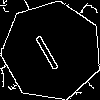I: (27, 25, 62, 72)
